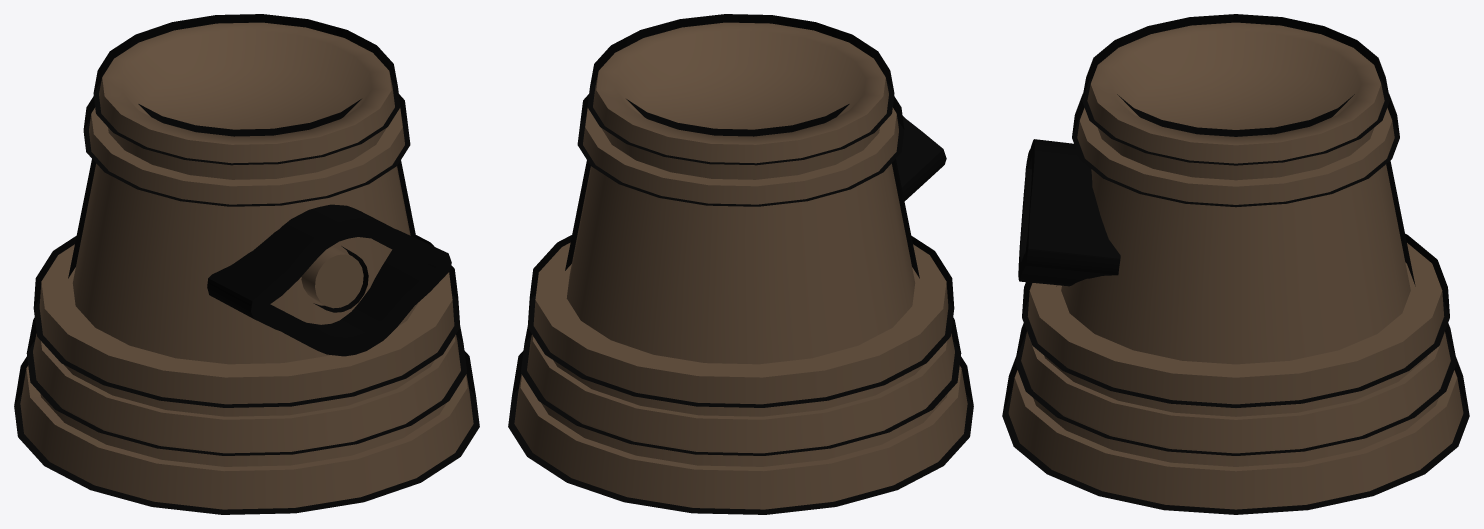
Rendered from Torch.fbx.
3 renders of one model, left to right at view 1: azimuth 30°, elevation 25°; view 2: azimuth 150°, elevation 25°; view 3: azimuth 270°, elevation 25°, orthographic.
Parts seen in each view (by area): view 1: polySurface341, polySurface342, polySurface346, polySurface344, polySurface343; view 2: polySurface341, polySurface342, polySurface346; view 3: polySurface341, polySurface342, polySurface346.
Part boxes in pixels (bbox=[...]): polySurface341: bbox=[20, 22, 473, 509]; polySurface342: bbox=[14, 14, 479, 514]; polySurface346: bbox=[207, 204, 451, 356]; polySurface344: bbox=[301, 247, 363, 308]; polySurface343: bbox=[313, 246, 368, 312]; polySurface341: bbox=[514, 22, 967, 509]; polySurface342: bbox=[508, 14, 973, 514]; polySurface346: bbox=[896, 116, 946, 201]; polySurface341: bbox=[1008, 22, 1463, 509]; polySurface342: bbox=[1002, 14, 1469, 514]; polySurface346: bbox=[1018, 139, 1120, 286].
Bounding box in the file's own units: 0.9604 × 0.772 × 0.9604.
